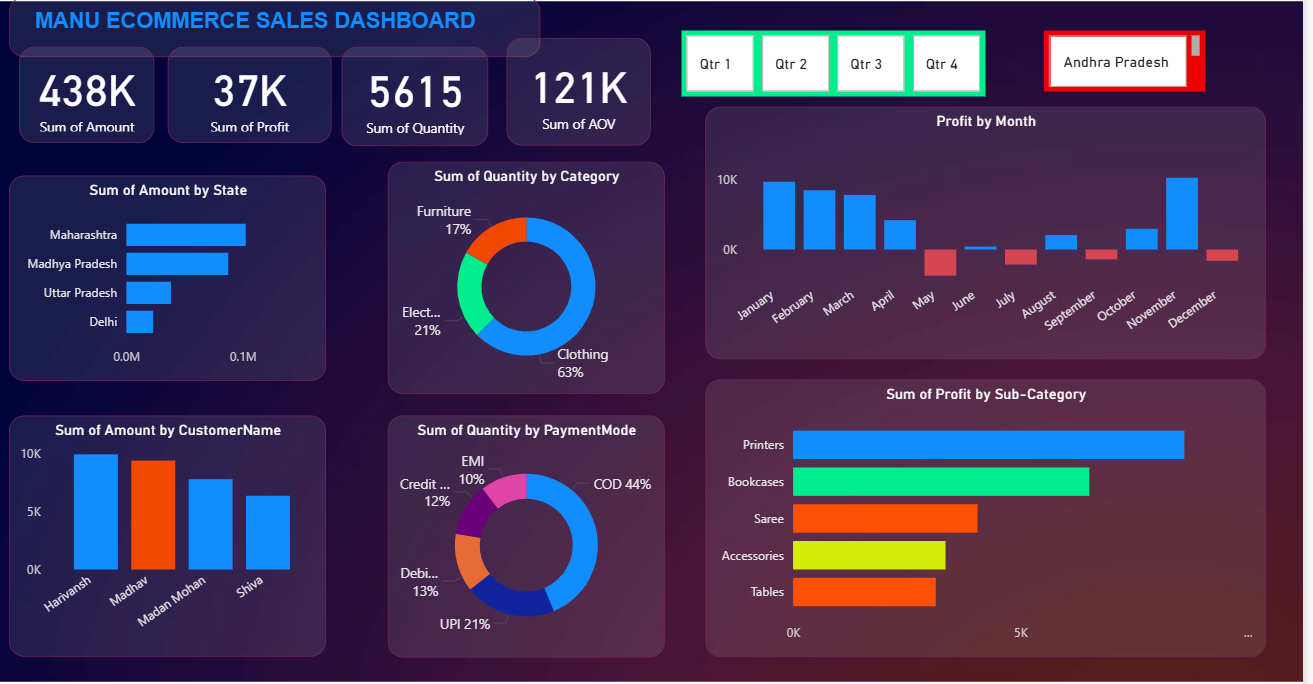

The dashboard page shown, as its layout file describes it:
{"tool":"powerbi","page":{"name":"Page 1","canvas":[1280,720],"ordinal":0},"visuals":[{"type":"textbox","box":[9.6,17.8,521.4,59],"z":0},{"type":"columnChart","title":"Profit by Month","fields":{"Category":["Orders.Order Date.Variation.Date Hierarchy.Month"],"Y":["Details.Profit"]},"box":[693,126.2,550.3,248.4],"z":1000},{"type":"barChart","fields":{"Category":["Details.Sub-Category"],"Y":["Details.Profit"]},"box":[693,393.8,550.3,273.1],"z":2000},{"type":"donutChart","fields":{"Category":["Details.Category"],"Y":["Details.Quantity"]},"box":[381.5,179.8,271.7,227.8],"z":3000},{"type":"donutChart","fields":{"Category":["Details.PaymentMode"],"Y":["Details.Quantity"]},"box":[381.5,429.5,271.7,237.4],"z":4000},{"type":"card","fields":{"Values":["Details.Amount"]},"box":[19.2,67.2,133.1,94.7],"z":5000},{"type":"card","fields":{"Values":["Details.Quantity"]},"box":[336.2,67.2,144.1,97.4],"z":6000},{"type":"card","fields":{"Values":["Details.Profit"]},"box":[166,67.2,160.5,94.7],"z":7000},{"type":"card","fields":{"Values":["Details.AOV"]},"box":[498.1,59,141.3,105.7],"z":8000},{"type":"barChart","fields":{"Category":["Orders.State"],"Y":["Details.Amount"]},"box":[9.6,193.5,311.5,201.7],"z":9000},{"type":"columnChart","fields":{"Category":["Orders.CustomerName"],"Y":["Details.Amount"]},"box":[10,430,311,237],"z":10000},{"type":"advancedSlicerVisual","fields":{"Values":["Orders.Order Date.Variation.Date Hierarchy.Quarter"]},"box":[669.9,51.5,298.2,65],"z":10001},{"type":"advancedSlicerVisual","fields":{"Values":["Orders.State"]},"box":[1025.8,51.5,158.3,60.1],"z":10002}]}

Visuals, with their boxes on the page's 1280x720 design canvas (x1, y1, x2, y2). These are canvas units, not pixel positions in the 1313x684 screenshot, which may show the page scaled, cropped or inside an application window:
textbox: left=10, top=18, right=531, bottom=77
"Profit by Month" columnChart: left=693, top=126, right=1243, bottom=375
barChart - Details.Sub-Category x Details.Profit: left=693, top=394, right=1243, bottom=667
donutChart - Details.Category x Details.Quantity: left=382, top=180, right=653, bottom=408
donutChart - Details.PaymentMode x Details.Quantity: left=382, top=430, right=653, bottom=667
card - Details.Amount: left=19, top=67, right=152, bottom=162
card - Details.Quantity: left=336, top=67, right=480, bottom=165
card - Details.Profit: left=166, top=67, right=326, bottom=162
card - Details.AOV: left=498, top=59, right=639, bottom=165
barChart - Orders.State x Details.Amount: left=10, top=194, right=321, bottom=395
columnChart - Orders.CustomerName x Details.Amount: left=10, top=430, right=321, bottom=667
advancedSlicerVisual - Orders.Order Date.Variation.Date Hierarchy.Quarter: left=670, top=52, right=968, bottom=116
advancedSlicerVisual - Orders.State: left=1026, top=52, right=1184, bottom=112
